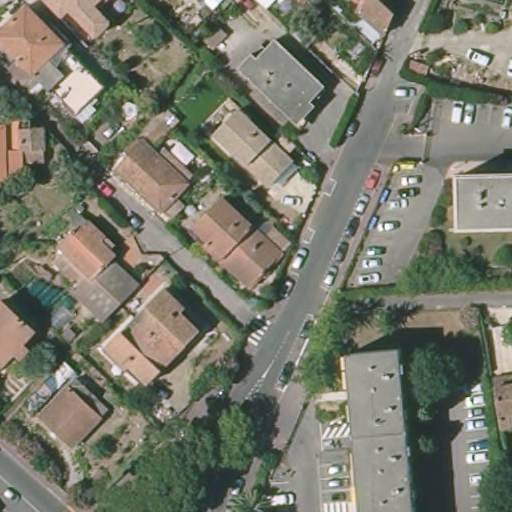pool: (26, 275, 79, 316)
